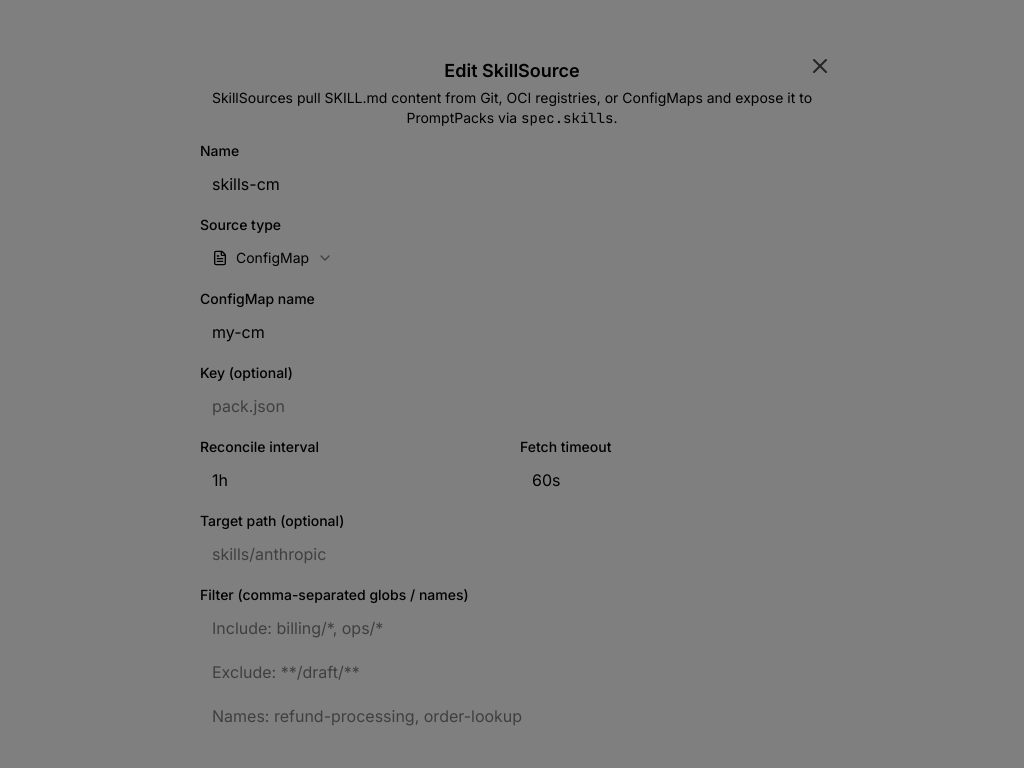
it: SkillSourceDialog › shows inline configMap name error for empty value
The image size is (1024, 768).
Clear the field labelled "ConfigMap name" at (512, 332), box x1=200 y1=314 x2=824 y2=350
(page scrolled)
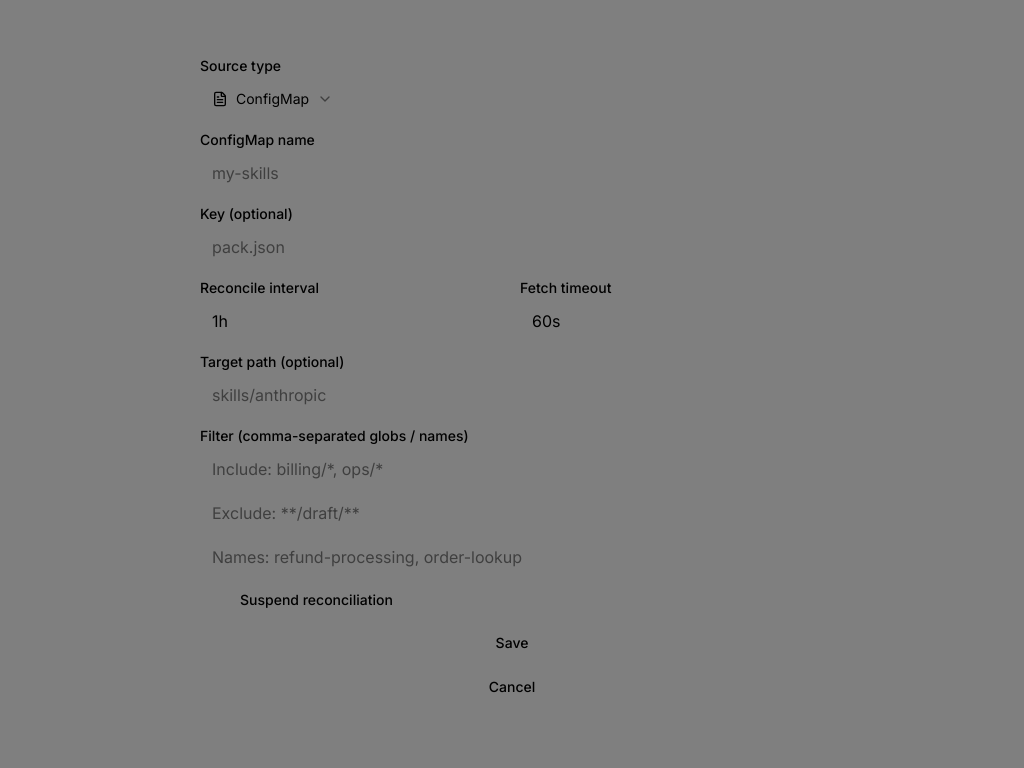
Expected: the button "Save" is enabled, x1=200 y1=626 x2=824 y2=662
